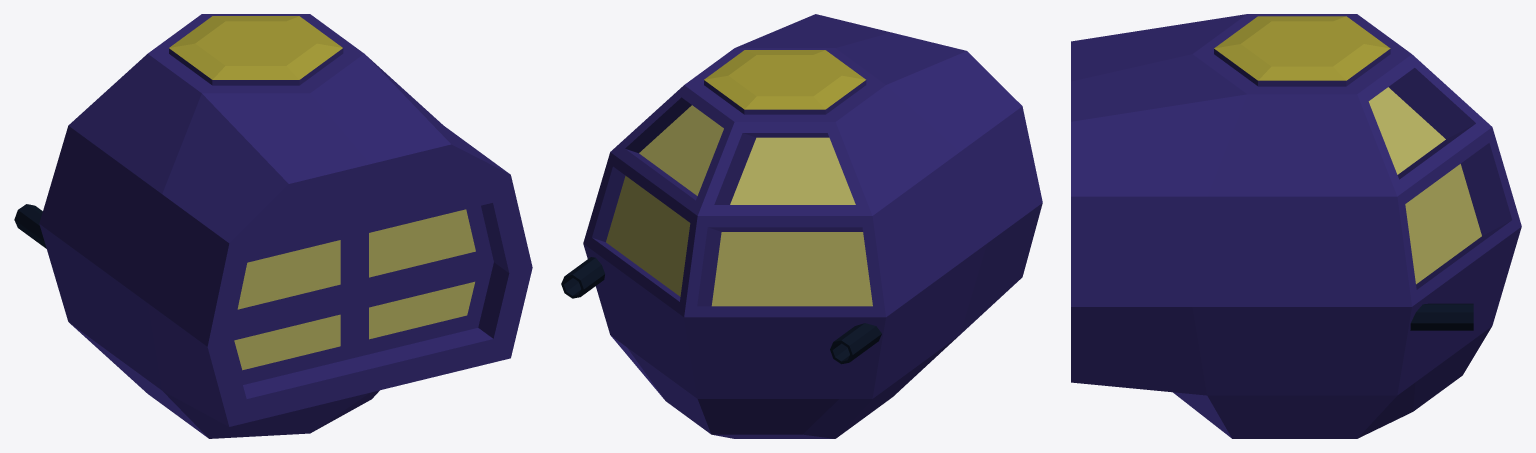
File: sciame blu.glb
The picture shows the model from 3 angles, left to right: view 1: azimuth 30°, elevation 25°; view 2: azimuth 150°, elevation 25°; view 3: azimuth 270°, elevation 25°; orthographic projection. The views are drawn at different scales.
Visible parts, largest first — view 1: corpo, motori, portellone, left-minigun; view 2: corpo, finestre, portellone, left-minigun, rigt-minigun; view 3: corpo, finestre, portellone, rigt-minigun.
Part boxes in pixels (box(x1,y1,x2,y2)): corpo: box(39, 14, 532, 438); motori: box(234, 209, 475, 370); portellone: box(169, 16, 342, 79); left-minigun: box(14, 204, 46, 248); corpo: box(583, 14, 1042, 438); finestre: box(606, 105, 872, 306); portellone: box(704, 50, 865, 109); left-minigun: box(830, 323, 881, 364); rigt-minigun: box(561, 257, 604, 298); corpo: box(1071, 14, 1521, 438); finestre: box(1368, 87, 1481, 284); portellone: box(1214, 16, 1390, 80); rigt-minigun: box(1410, 303, 1473, 330).
Bounding box in the file's own units: 1.73 × 1.92 × 2.05.
